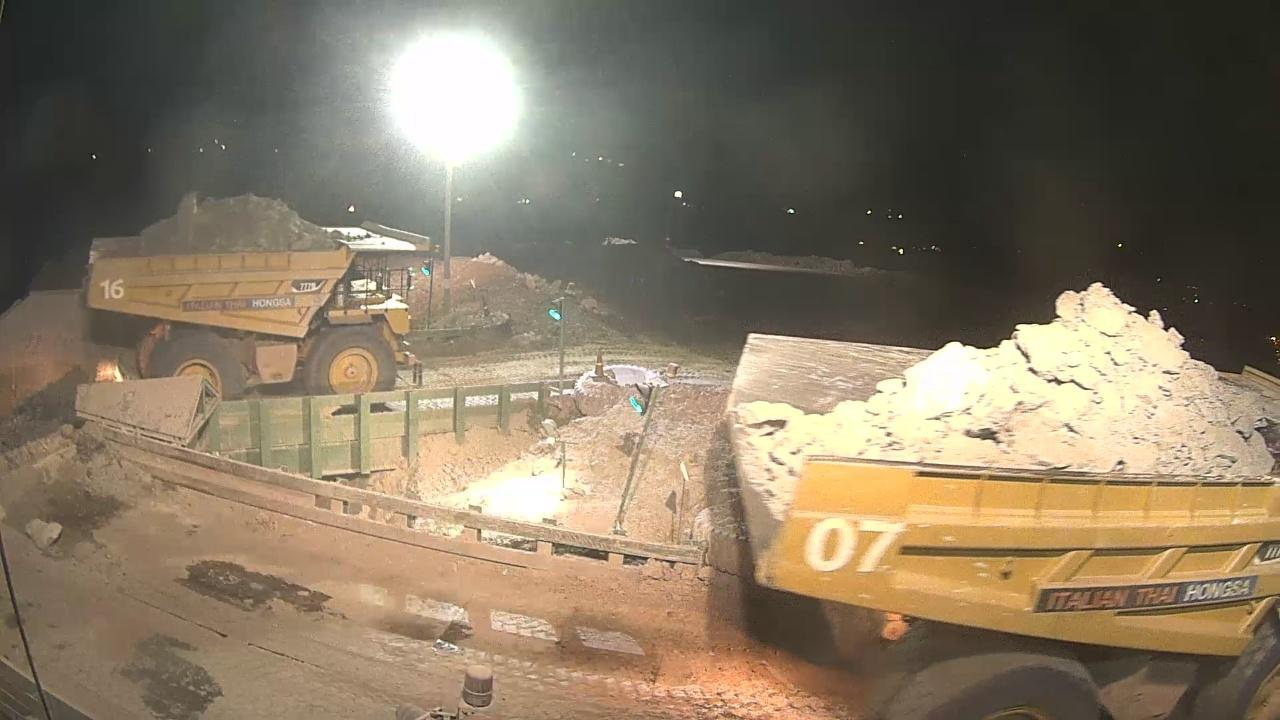company: (1020, 577, 1270, 617), (178, 298, 301, 317)
full_load: (804, 288, 1278, 484), (133, 197, 339, 250)
mining_truck: (717, 266, 1280, 720), (88, 188, 447, 411)
tail_number: (807, 508, 903, 586), (96, 274, 127, 309)
truck_size: (288, 271, 327, 298)
